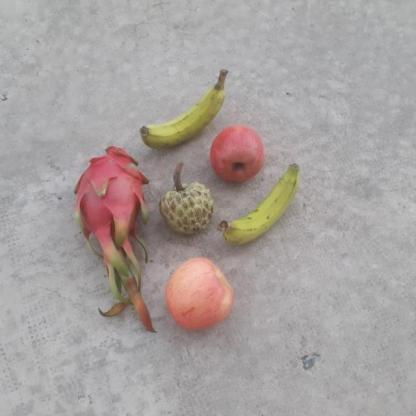annona: (157, 179, 219, 240)
apple: (154, 254, 236, 338), (210, 118, 262, 186)
banana: (218, 158, 313, 251), (142, 82, 224, 145)
pitaya: (69, 144, 149, 232)
